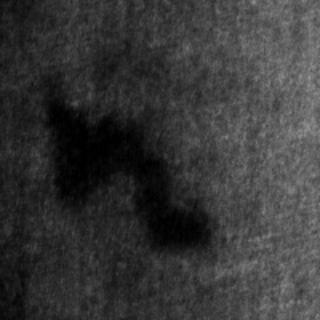patches: (42, 83, 210, 249)
